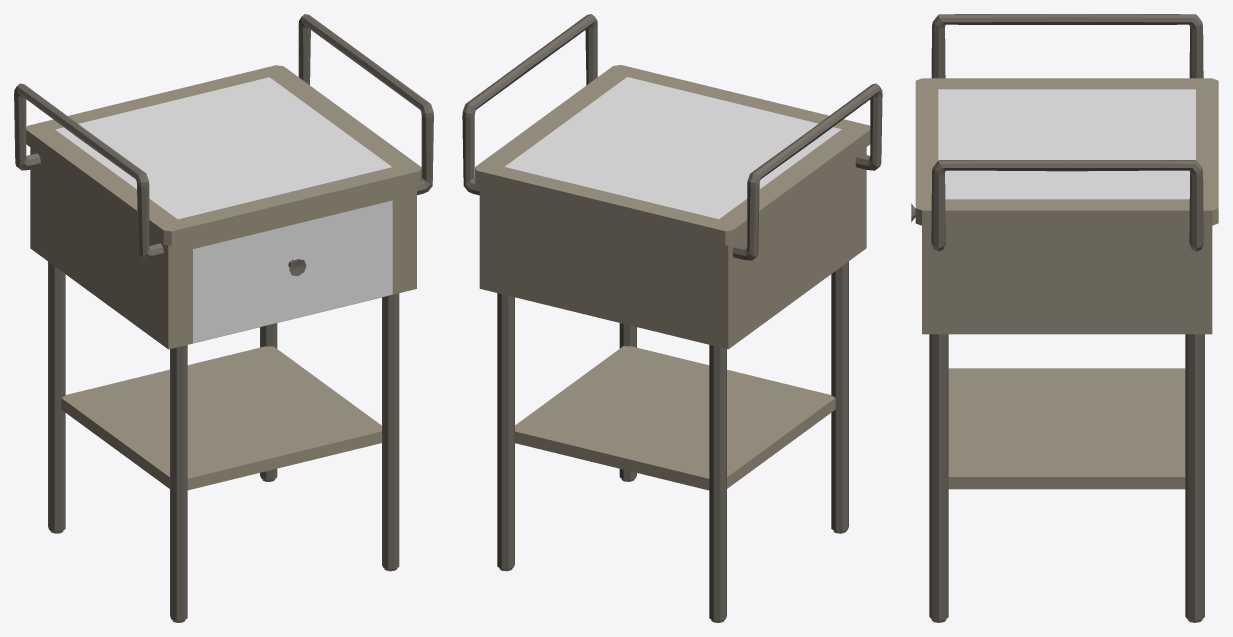
File: Mesinha.fbx
3 views of the same model, side by side, from view 1: azimuth 30°, elevation 25°; view 2: azimuth 150°, elevation 25°; view 3: azimuth 270°, elevation 25° (orthographic). The views are drawn at different scales.
Parts seen in each view (by area): view 1: MSA; view 2: MSA; view 3: MSA.
Boxes of the visible parts, bbox=[...] form: MSA: bbox=[14, 14, 433, 622]; MSA: bbox=[462, 14, 882, 622]; MSA: bbox=[911, 14, 1218, 622].
Size of the model in its own units: 47.61 by 70.13 by 40.77.
